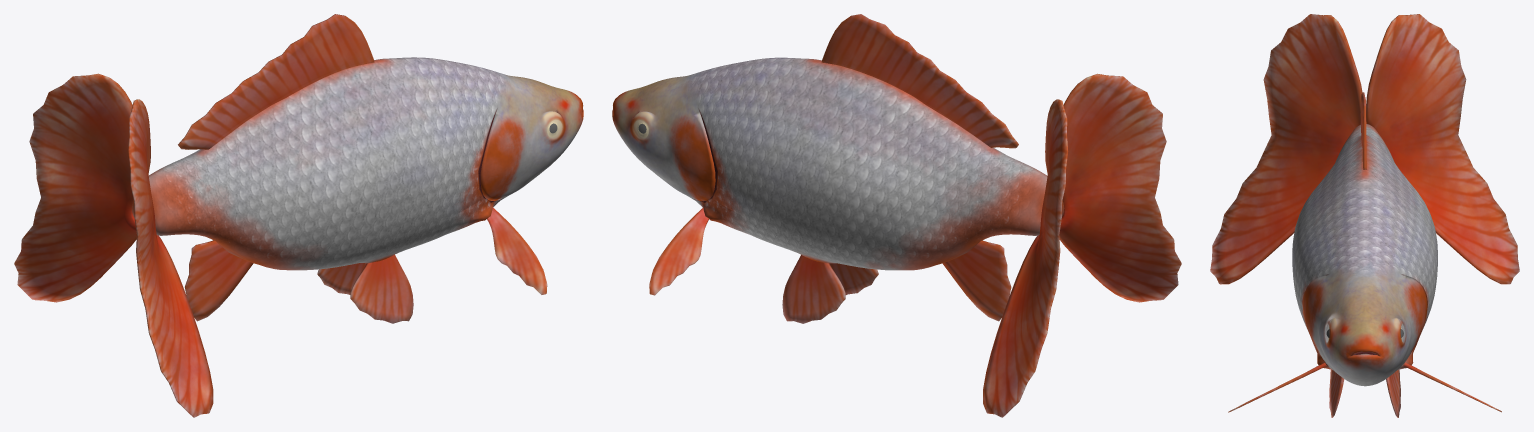
File: jikin-neutral-v1.glb
The picture shows the model from 3 angles, left to right: view 1: azimuth 30°, elevation 25°; view 2: azimuth 150°, elevation 25°; view 3: azimuth 270°, elevation 25°; orthographic projection. The views are drawn at different scales.
Parts seen in each view (by area): view 1: SW_Jikin_Body_M_JikinBody_0, SW_Jikin_FinCaudal_M_JikinFins_0, SW_Jikin_FinDorsal_M_JikinFins_0, SW_Jikin_FinPelvic_M_JikinFins_0, SW_Jikin_FinAnal_M_JikinFins_0, SW_Jikin_FinPectoral_M_JikinFins_0; view 2: SW_Jikin_Body_M_JikinBody_0, SW_Jikin_FinCaudal_M_JikinFins_0, SW_Jikin_FinDorsal_M_JikinFins_0, SW_Jikin_FinPelvic_M_JikinFins_0, SW_Jikin_FinAnal_M_JikinFins_0, SW_Jikin_FinPectoral_M_JikinFins_0; view 3: SW_Jikin_FinCaudal_M_JikinFins_0, SW_Jikin_Body_M_JikinBody_0, SW_Jikin_FinPelvic_M_JikinFins_0, SW_Jikin_FinPectoral_M_JikinFins_0, SW_Jikin_FinDorsal_M_JikinFins_0.
Part boxes in pixels (x1,y1,x2,y2): SW_Jikin_Body_M_JikinBody_0: [132, 57, 583, 270]; SW_Jikin_FinCaudal_M_JikinFins_0: [14, 73, 213, 417]; SW_Jikin_FinDorsal_M_JikinFins_0: [178, 14, 374, 149]; SW_Jikin_FinPelvic_M_JikinFins_0: [317, 254, 413, 323]; SW_Jikin_FinAnal_M_JikinFins_0: [184, 240, 253, 321]; SW_Jikin_FinPectoral_M_JikinFins_0: [487, 207, 547, 294]; SW_Jikin_Body_M_JikinBody_0: [612, 57, 1064, 270]; SW_Jikin_FinCaudal_M_JikinFins_0: [983, 73, 1181, 417]; SW_Jikin_FinDorsal_M_JikinFins_0: [821, 14, 1018, 148]; SW_Jikin_FinPelvic_M_JikinFins_0: [782, 255, 878, 323]; SW_Jikin_FinAnal_M_JikinFins_0: [942, 240, 1011, 321]; SW_Jikin_FinPectoral_M_JikinFins_0: [649, 207, 708, 295]; SW_Jikin_FinCaudal_M_JikinFins_0: [1210, 14, 1519, 284]; SW_Jikin_Body_M_JikinBody_0: [1292, 124, 1437, 386]; SW_Jikin_FinPelvic_M_JikinFins_0: [1329, 369, 1400, 417]; SW_Jikin_FinPectoral_M_JikinFins_0: [1228, 363, 1501, 412]; SW_Jikin_FinDorsal_M_JikinFins_0: [1360, 92, 1366, 169].
Size of the model in its own units: 2.2 by 1.3 by 1.24.
Materials: 5 (1 with a texture image).
